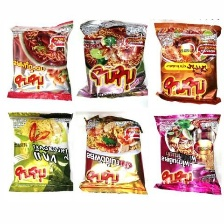snack: (73, 15, 152, 103), (74, 110, 150, 200), (148, 17, 223, 108), (3, 107, 76, 199), (149, 111, 223, 200), (3, 16, 75, 104)
